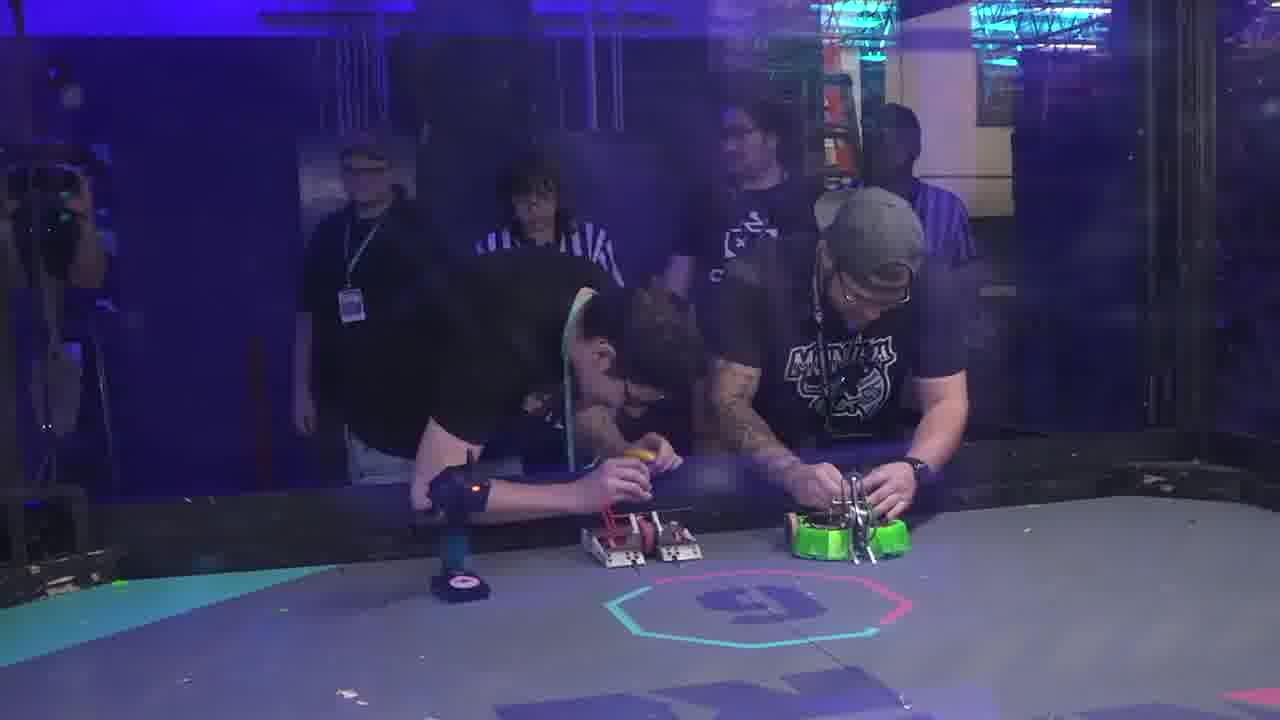combatbot: (784, 507, 911, 564), (582, 520, 707, 572)
